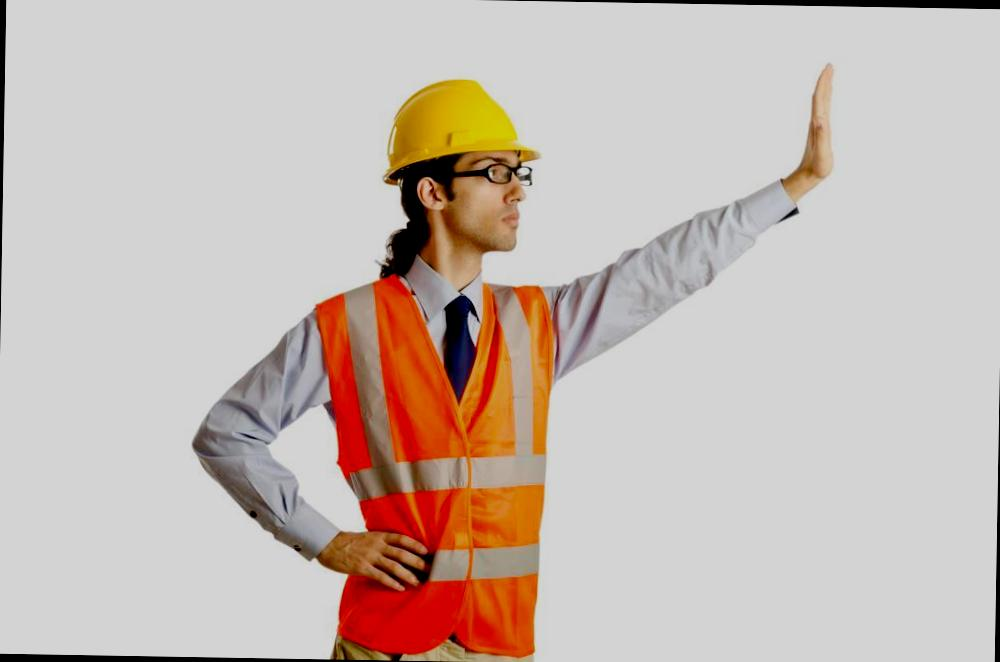helmet: (372, 80, 548, 189)
person: (296, 62, 562, 658)
